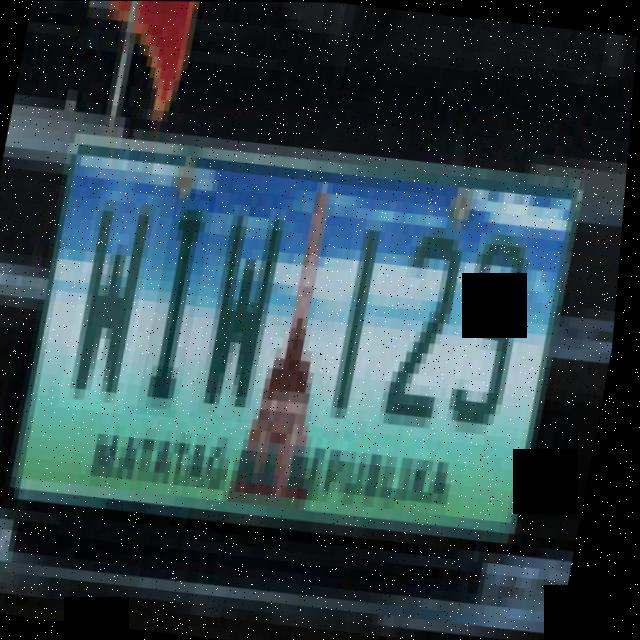1: (323, 198, 402, 433)
3: (446, 211, 545, 439)
I: (142, 191, 219, 417)
W: (195, 189, 298, 423), (64, 188, 166, 414)
